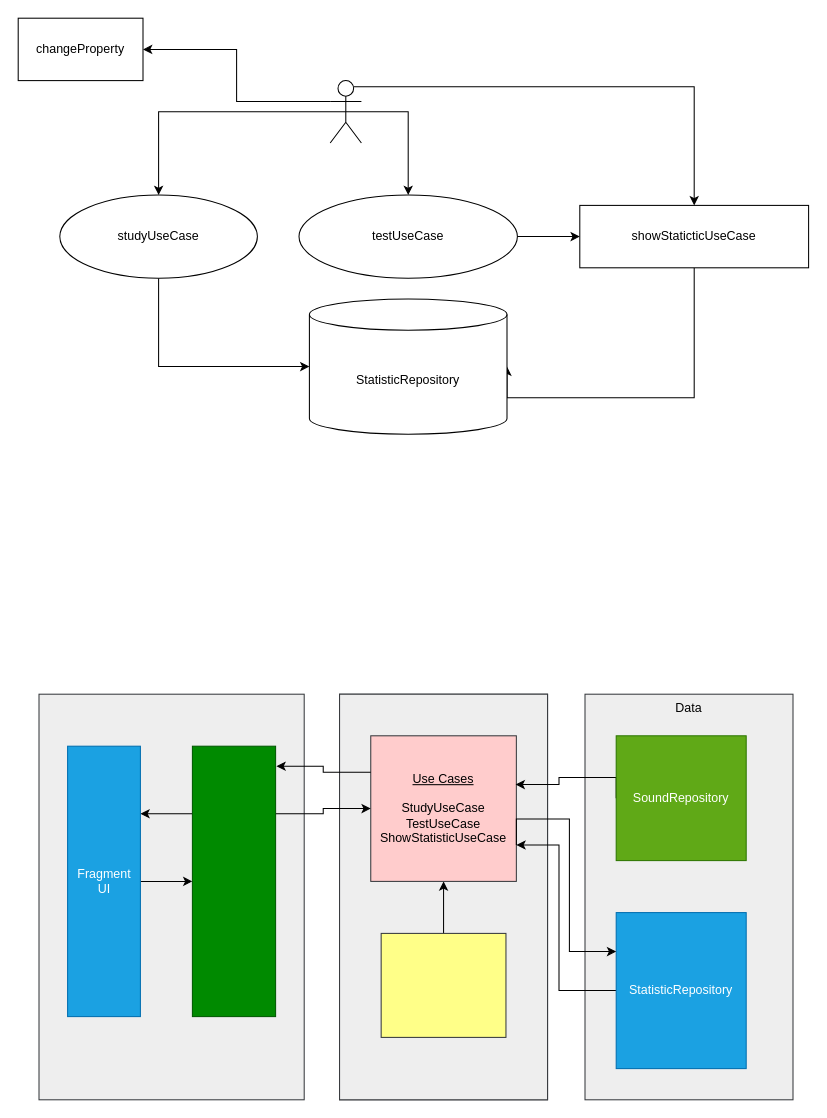
This 827x1118 diagram has some shape labels left out. Here are the shapes that lost their labels. From the top down, the box of each, then its label:
(329, 80, 361, 143): Actor
(38, 693, 304, 1100): Presentation
(191, 745, 276, 1017): ViewModel
(339, 693, 548, 1100): Domain
(380, 932, 506, 1037): Entities Task TaskList
